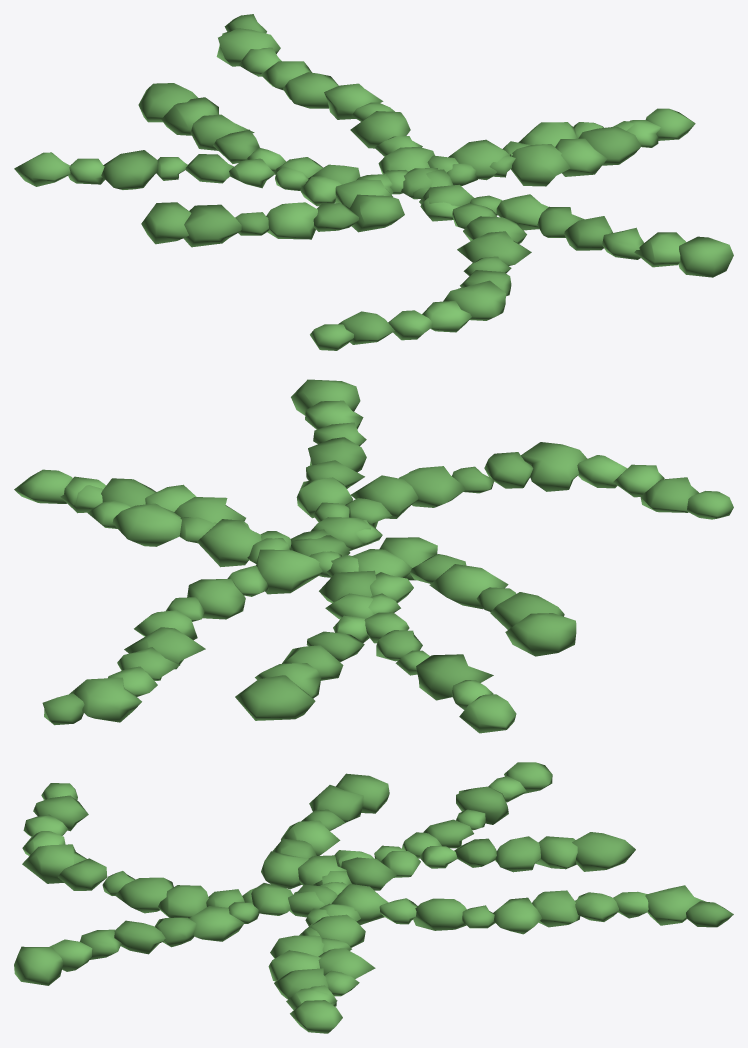
The model's file is creeper_2.glb.
3 views of the same model, one above another, from view 1: azimuth 30°, elevation 25°; view 2: azimuth 150°, elevation 25°; view 3: azimuth 270°, elevation 25° (orthographic). The views are drawn at different scales.
Visible parts, largest first — view 1: creeper; view 2: creeper; view 3: creeper.
Part boxes in pixels (x1,y1,x2,y2): creeper: (14,14,733,350); creeper: (14,379,733,733); creeper: (14,762,733,1033).
Size of the model in its own units: 1.69 by 0.0899 by 1.97.
